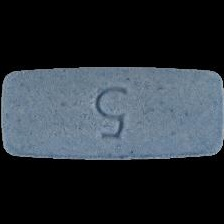48433-116: (0, 0, 224, 224)
